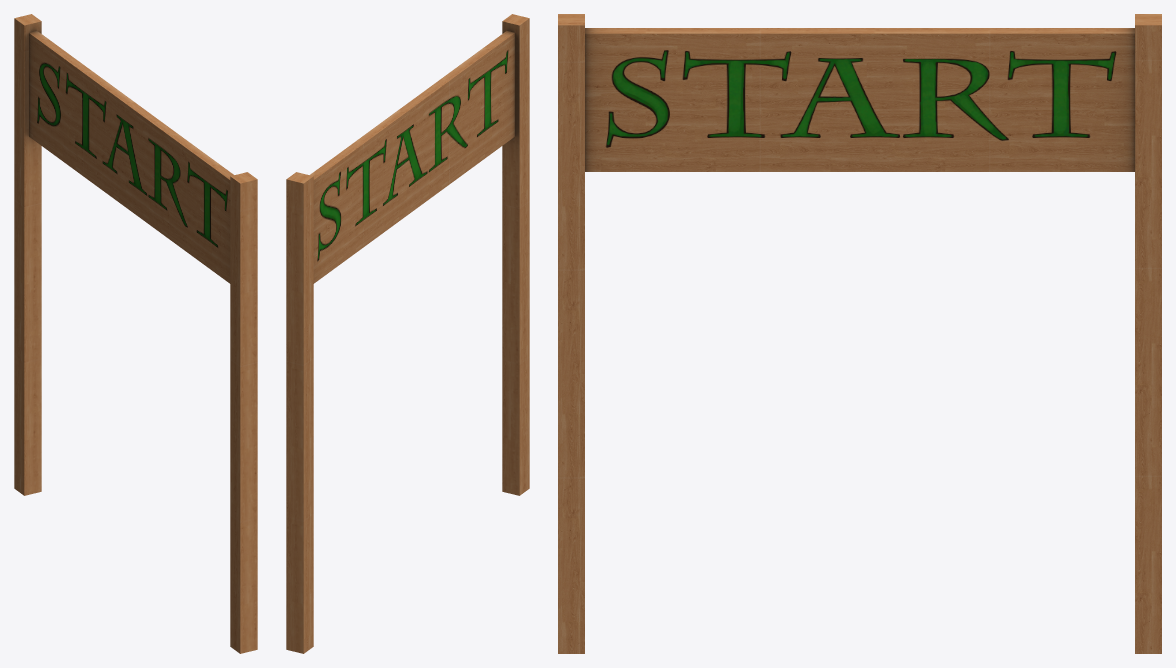
File: start_finish fahne.fbx
3 renders of one model, left to right at view 1: azimuth 30°, elevation 25°; view 2: azimuth 150°, elevation 25°; view 3: azimuth 270°, elevation 25°, orthographic. The views are drawn at different scales.
Parts seen in each view (by area): view 1: Cube; view 2: Cube; view 3: Cube.
Part boxes in pixels (x1,y1,x2,y2): Cube: (14, 14, 257, 653); Cube: (286, 14, 529, 653); Cube: (558, 14, 1161, 653).
Size of the model in its own units: 0.1856 by 4.81 by 4.19.
